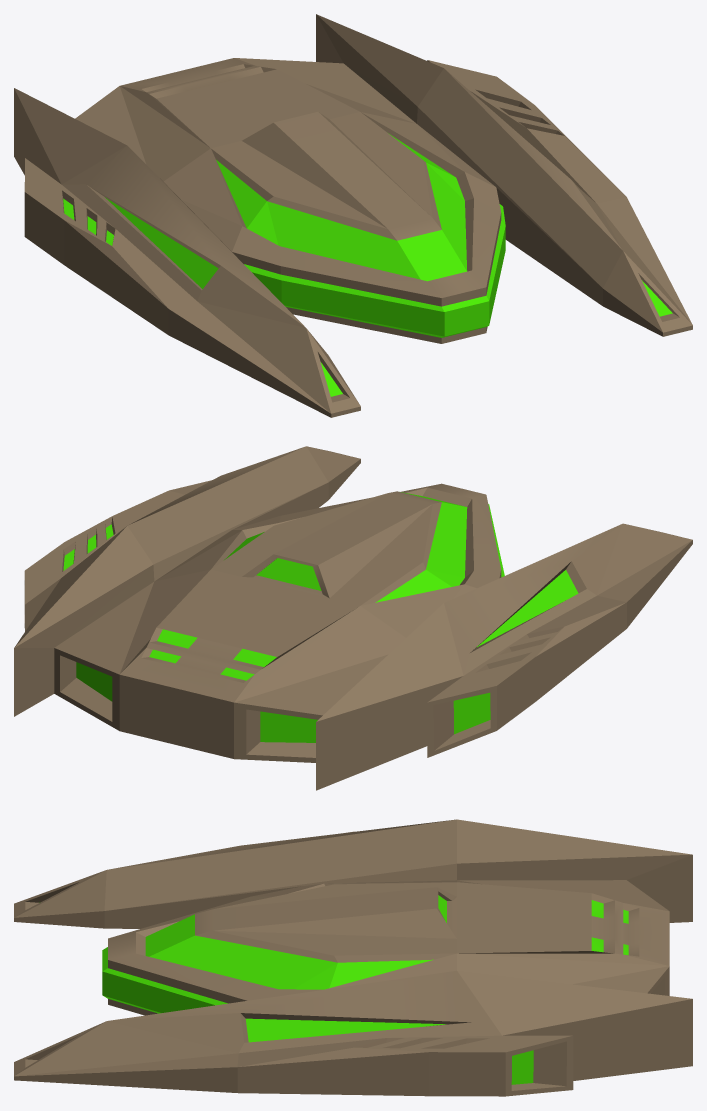
Rendered from PlayerShip_Green.fbx.
3 views of the same model, one above another, from view 1: azimuth 30°, elevation 25°; view 2: azimuth 150°, elevation 25°; view 3: azimuth 270°, elevation 25° (orthographic). The views are drawn at different scales.
Parts seen in each view (by area): view 1: playerShip_Green; view 2: playerShip_Green; view 3: playerShip_Green.
Part boxes in pixels (<box>): playerShip_Green: <box>14,14,692,417</box>; playerShip_Green: <box>14,446,692,790</box>; playerShip_Green: <box>14,819,692,1096</box>.
Size of the model in its own units: 4.23 by 0.867 by 5.39.
